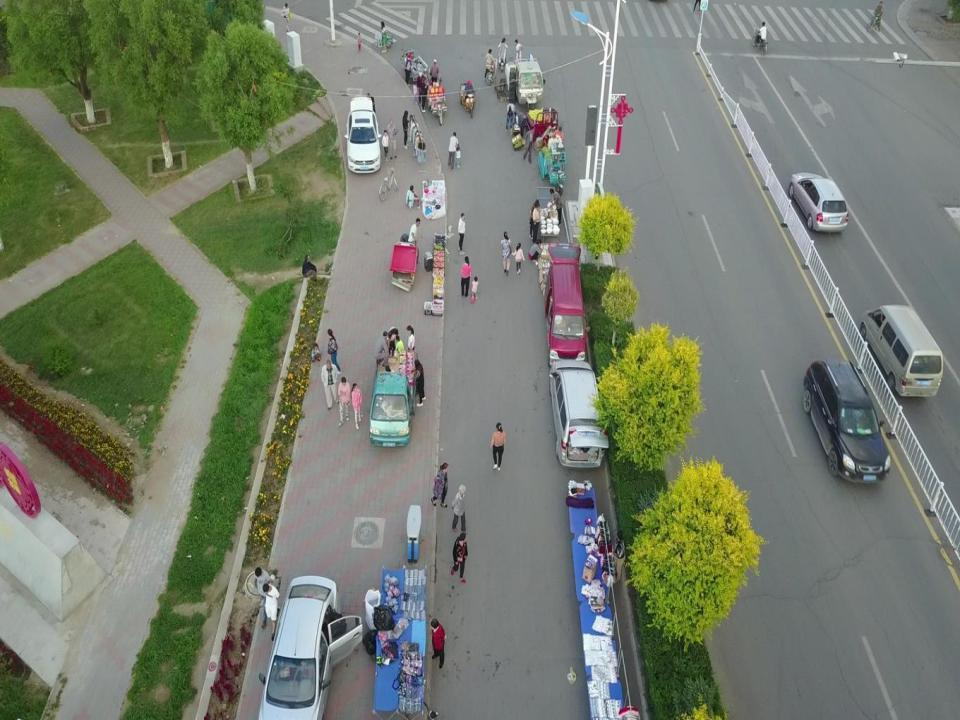car: (258, 573, 341, 720), (802, 362, 890, 484), (788, 172, 848, 232), (346, 99, 380, 174)
truck: (369, 351, 413, 447)
van: (858, 303, 944, 397), (548, 359, 604, 468), (542, 241, 584, 359)
